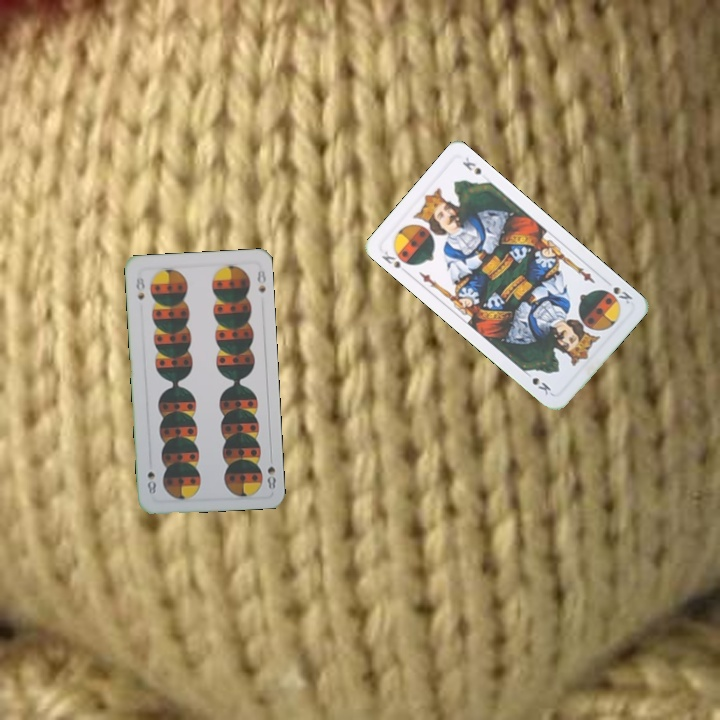S8: (263, 451, 279, 492), (132, 272, 147, 303)
SK: (377, 247, 411, 277), (609, 283, 635, 307)
